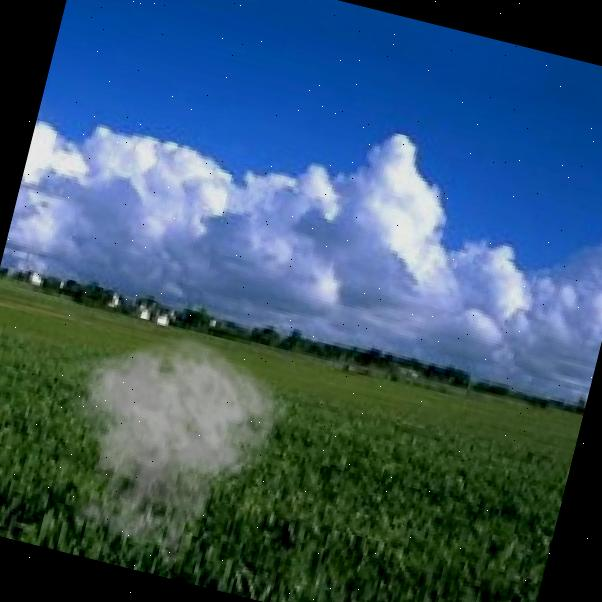smoke: (25, 308, 302, 587)
